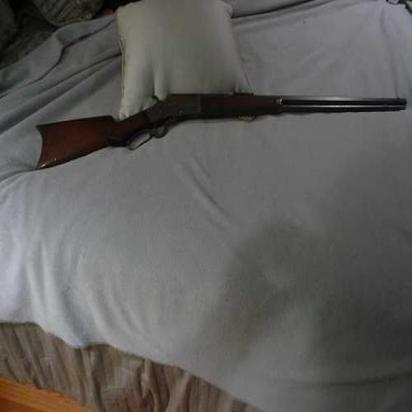Gun: (21, 60, 412, 184)
